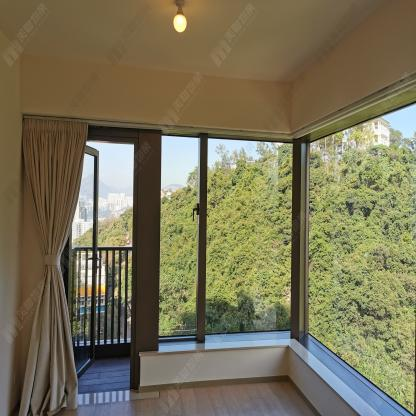Windowsill: (157, 73, 416, 416)
